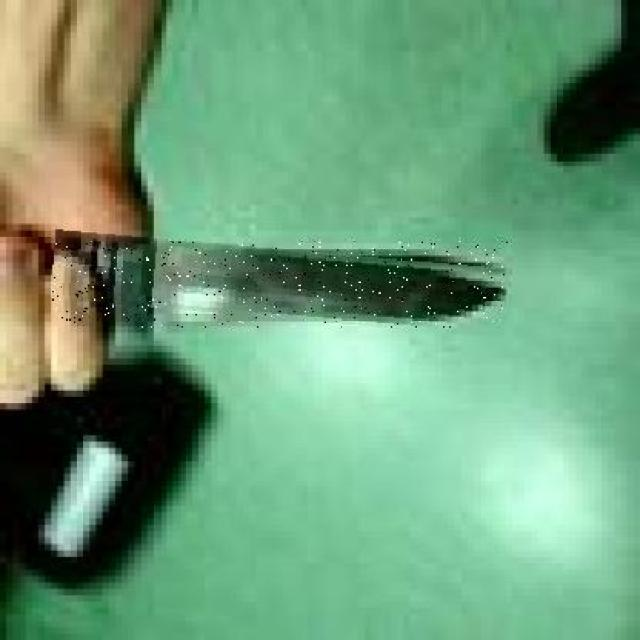knife: (52, 240, 510, 328)
